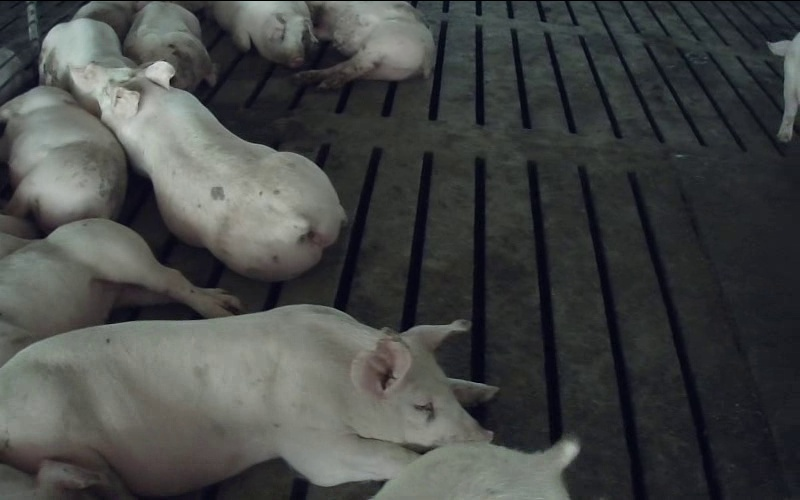pig: (0, 305, 495, 498), (82, 62, 344, 280), (0, 219, 239, 365), (295, 2, 434, 88), (39, 18, 135, 115), (123, 2, 215, 91), (212, 2, 316, 68)
